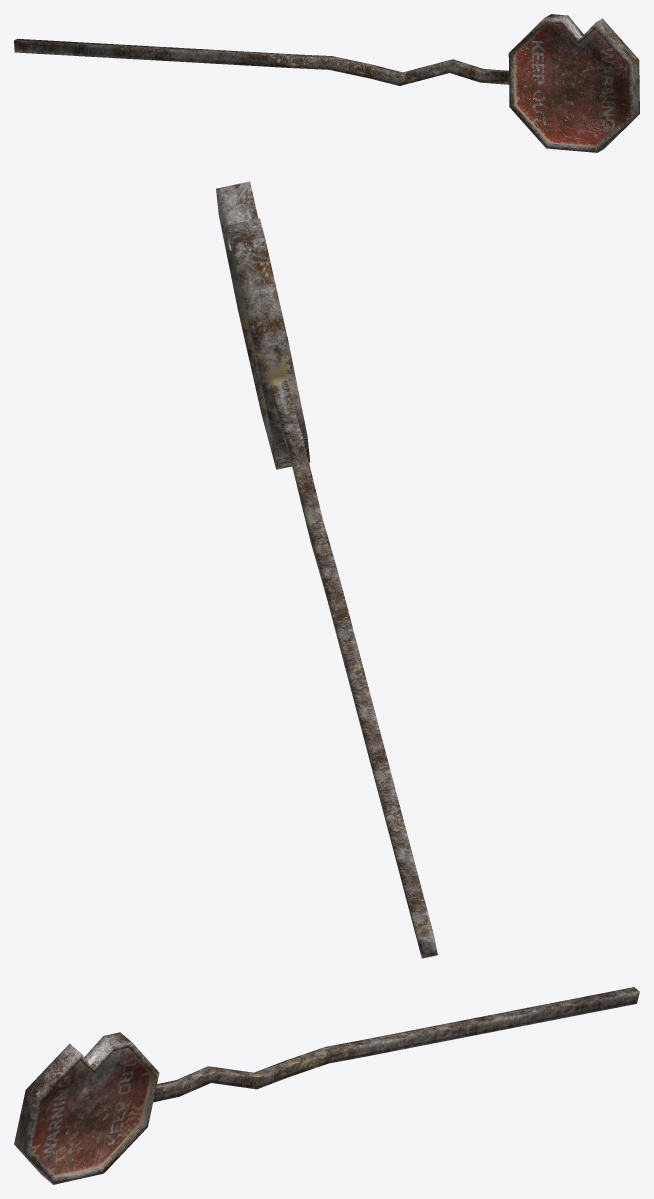
File: Anim_idle_senyal_objetos.0049.obj
The picture shows the model from 3 angles, top to bottom: view 1: azimuth 30°, elevation 25°; view 2: azimuth 150°, elevation 25°; view 3: azimuth 270°, elevation 25°; orthographic projection. The views are drawn at different scales.
Bounding box in the file's own units: 7.88 × 2.62 × 10.09.
